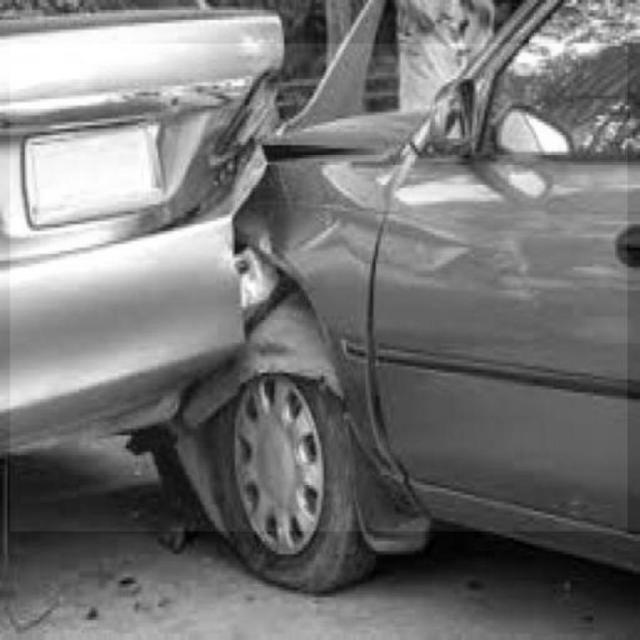accident: (9, 44, 627, 531)
